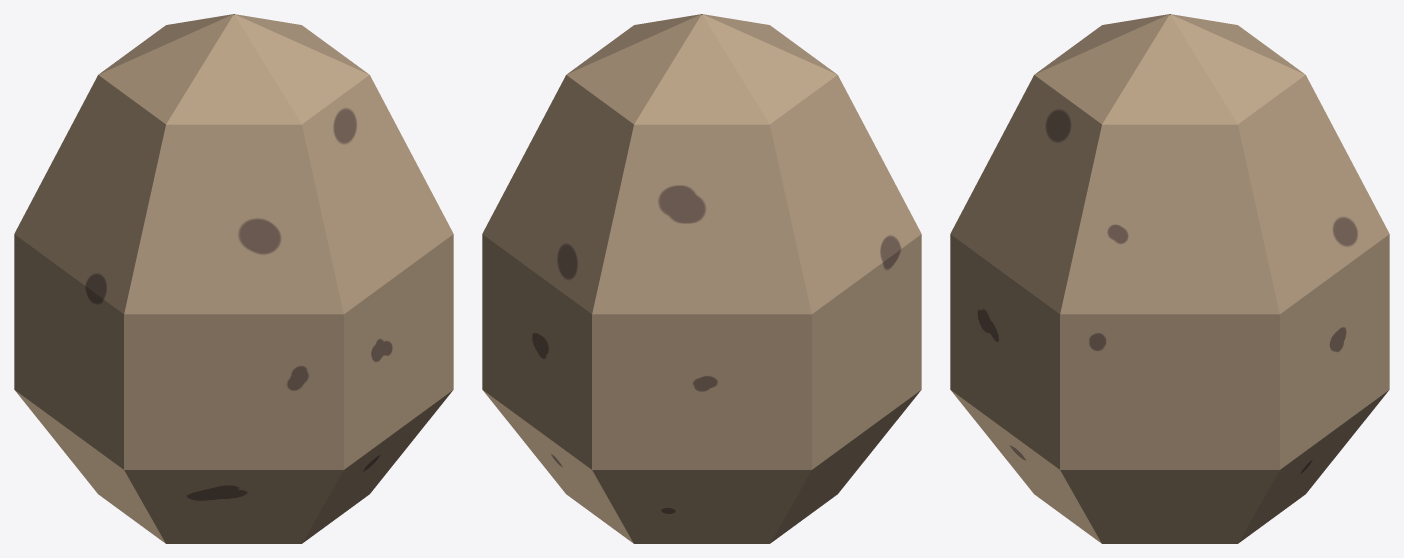
The model's file is BirdEggModel.fbx.
The picture shows the model from 3 angles, left to right: view 1: azimuth 30°, elevation 25°; view 2: azimuth 150°, elevation 25°; view 3: azimuth 270°, elevation 25°; orthographic projection.
Parts seen in each view (by area): view 1: egg; view 2: egg; view 3: egg.
Boxes of the visible parts, box(x1,y1,x2,y2) form: egg: box(14, 14, 453, 543); egg: box(482, 14, 921, 543); egg: box(950, 14, 1389, 543).
Bounding box in the file's own units: 6.85 × 10.34 × 7.91.
